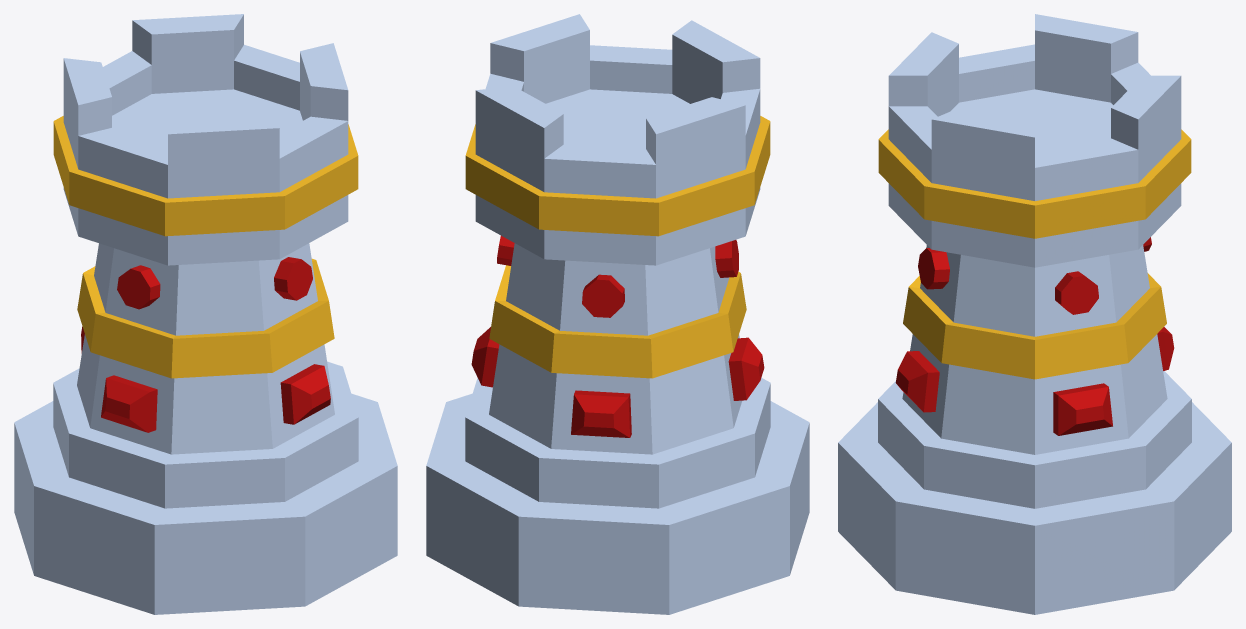
The model's file is fire3.gltf.
3 views of the same model, side by side, from view 1: azimuth 30°, elevation 25°; view 2: azimuth 150°, elevation 25°; view 3: azimuth 270°, elevation 25° (orthographic).
Visible parts, largest first — view 1: Fire3; view 2: Fire3; view 3: Fire3.
Boxes of the visible parts, bbox=[...] form: Fire3: bbox=[14, 14, 397, 614]; Fire3: bbox=[426, 14, 809, 614]; Fire3: bbox=[838, 14, 1231, 614].
Size of the model in its own units: 8 by 10.22 by 8.
